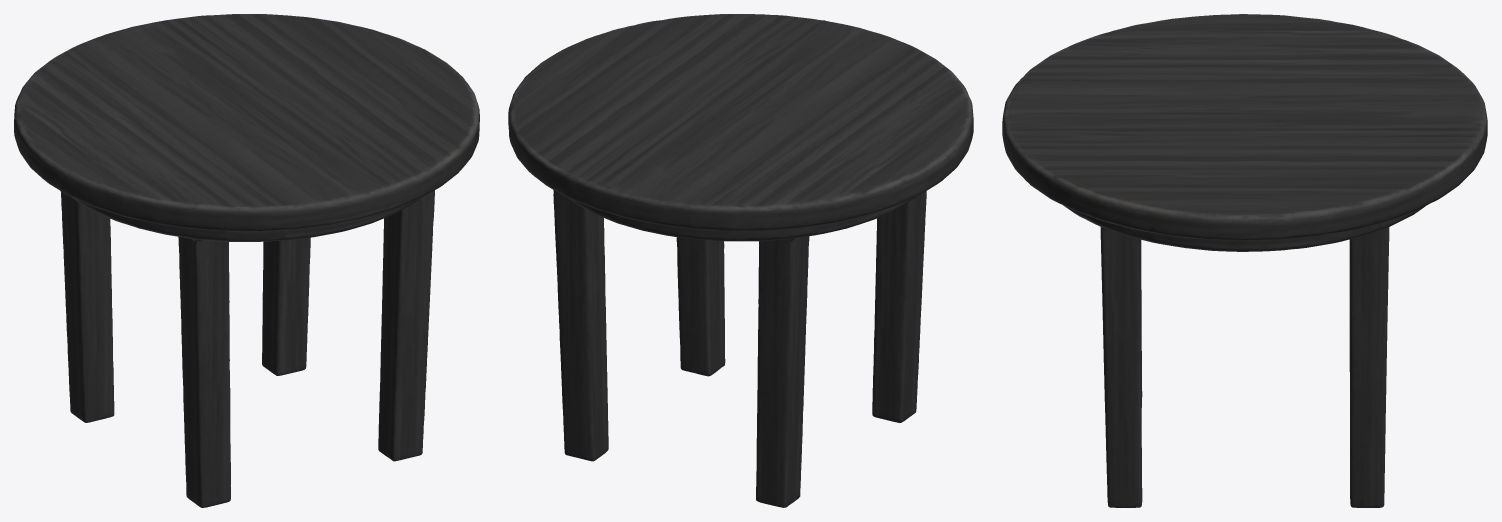
Rendered from facultyoffice_SideTable.glb.
3 renders of one model, left to right at view 1: azimuth 30°, elevation 25°; view 2: azimuth 150°, elevation 25°; view 3: azimuth 270°, elevation 25°, orthographic. The views are drawn at different scales.
Visible parts, largest first — view 1: world; view 2: world; view 3: world.
Part boxes in pixels (x1,y1,x2,y2): world: (14,14,479,507); world: (508,14,973,507); world: (1002,14,1487,507).
Size of the model in its own units: 1 by 0.7683 by 1.
Materials: 1 (1 with a texture image).
